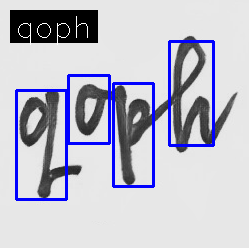h: (169, 31, 214, 154)
o: (72, 82, 107, 138)
p: (111, 82, 152, 187)
q: (16, 87, 62, 201)
